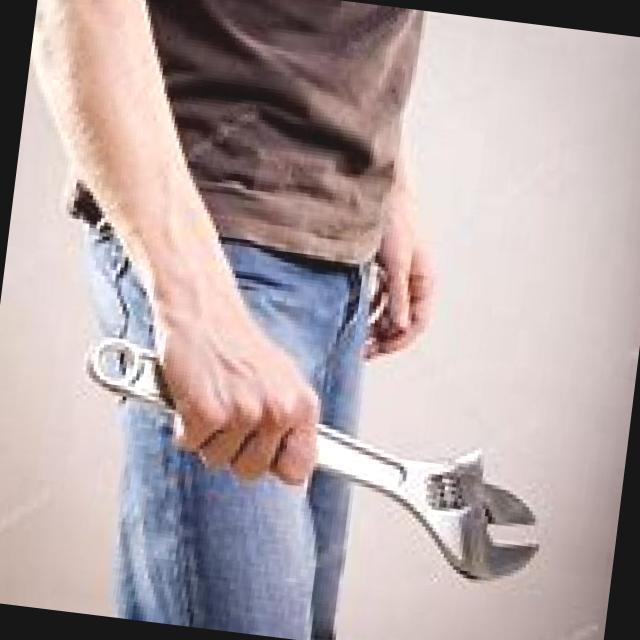wrench: (316, 424, 538, 579), (91, 338, 162, 401)
